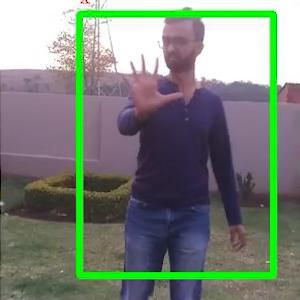follow_hand: (118, 50, 185, 115)
